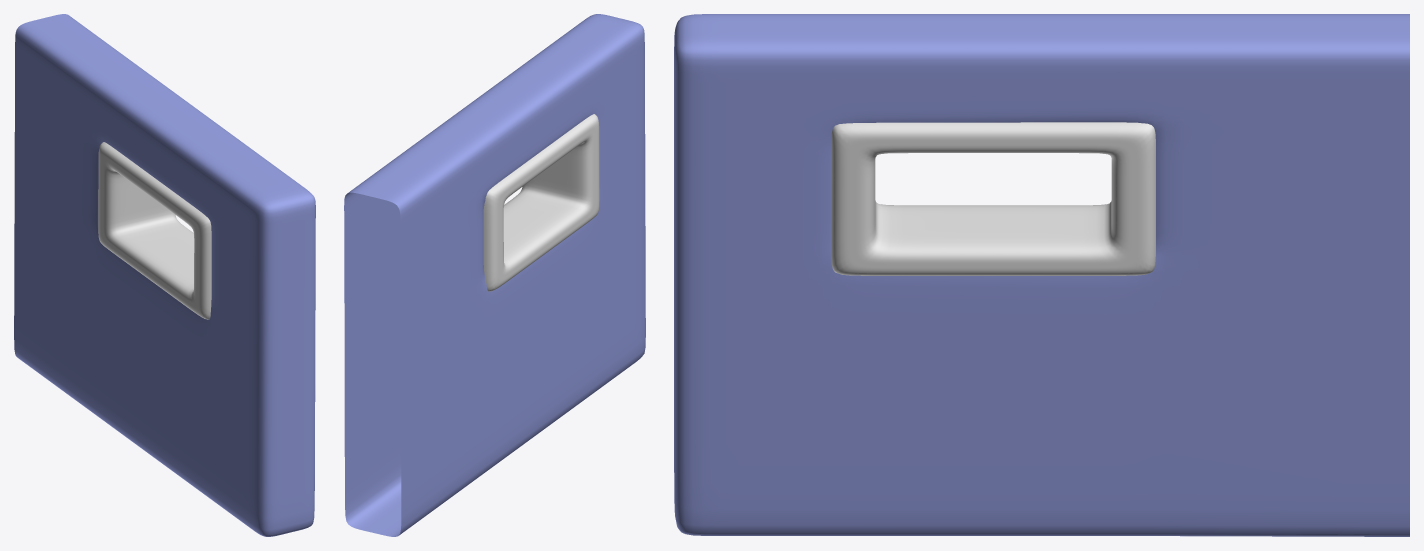
The model's file is Wall02.fbx.
3 renders of one model, left to right at view 1: azimuth 30°, elevation 25°; view 2: azimuth 150°, elevation 25°; view 3: azimuth 270°, elevation 25°, orthographic. The views are drawn at different scales.
Parts seen in each view (by area): view 1: Window; view 2: Window; view 3: Window.
Part boxes in pixels (bbox=[...]): Window: bbox=[14, 14, 315, 536]; Window: bbox=[344, 14, 645, 536]; Window: bbox=[674, 14, 1409, 536].
Size of the model in its own units: 49.06 by 226 by 305.
